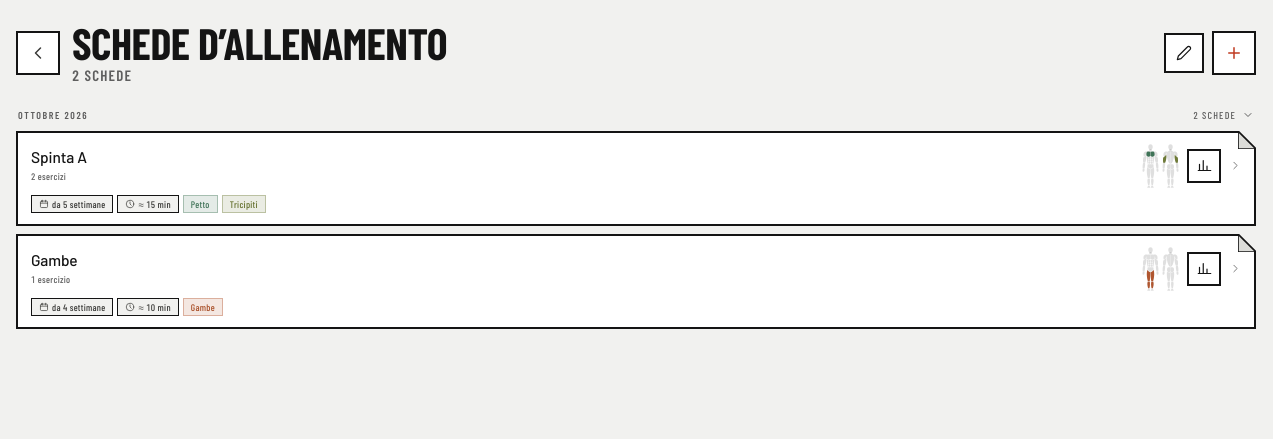
Test: il report muscolare di una scheda › dice serie e chili dei muscoli di quella scheda, e solo di quella
What coordinates should you click on to do the following:
click the button named "Report muscolare di Spinta A"
I would click on:
 (1204, 166)
Its box is [1187,149,1221,183].
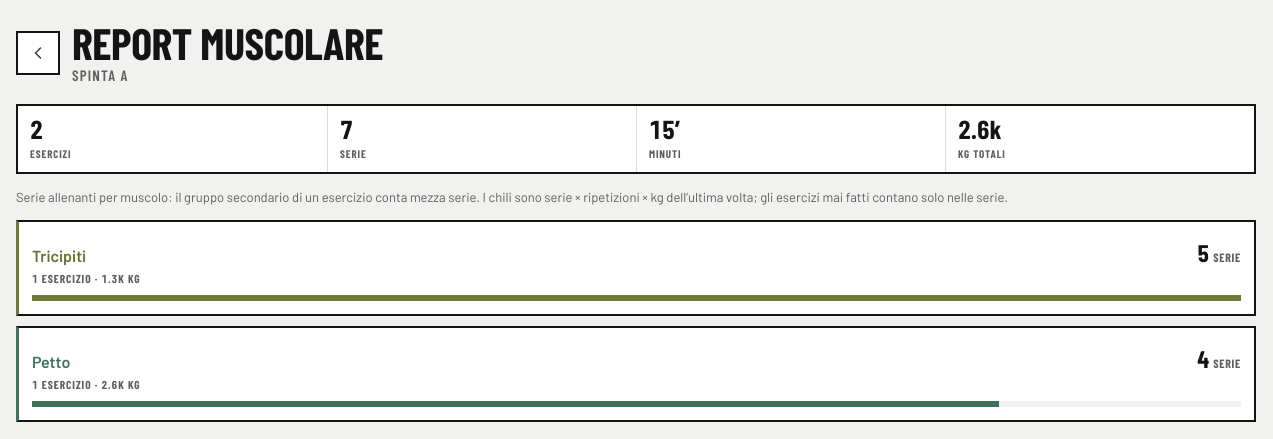
Now the text "Report muscolare" is shown, box [72,16,383,69]
Now the text "1 esercizio · 2.6k kg" is shown, box [32,376,141,393]
Now the text "Gambe" is gone
